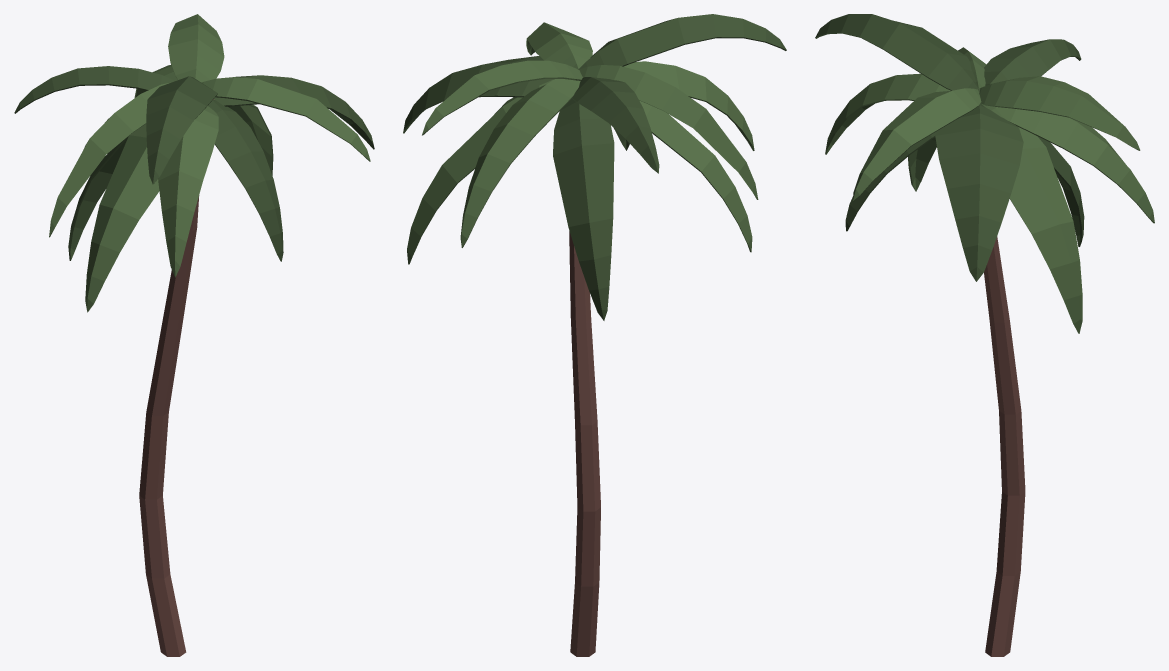
The model's file is palm_3.glb.
3 renders of one model, left to right at view 1: azimuth 30°, elevation 25°; view 2: azimuth 150°, elevation 25°; view 3: azimuth 270°, elevation 25°, orthographic.
Parts seen in each view (by area): view 1: PalmTree_3; view 2: PalmTree_3; view 3: PalmTree_3.
Part boxes in pixels (left/top/right/bottom): PalmTree_3: left=14, top=14, right=374, bottom=656; PalmTree_3: left=403, top=14, right=786, bottom=656; PalmTree_3: left=815, top=14, right=1154, bottom=656.
Size of the model in its own units: 3.8 by 6.5 by 3.3.
